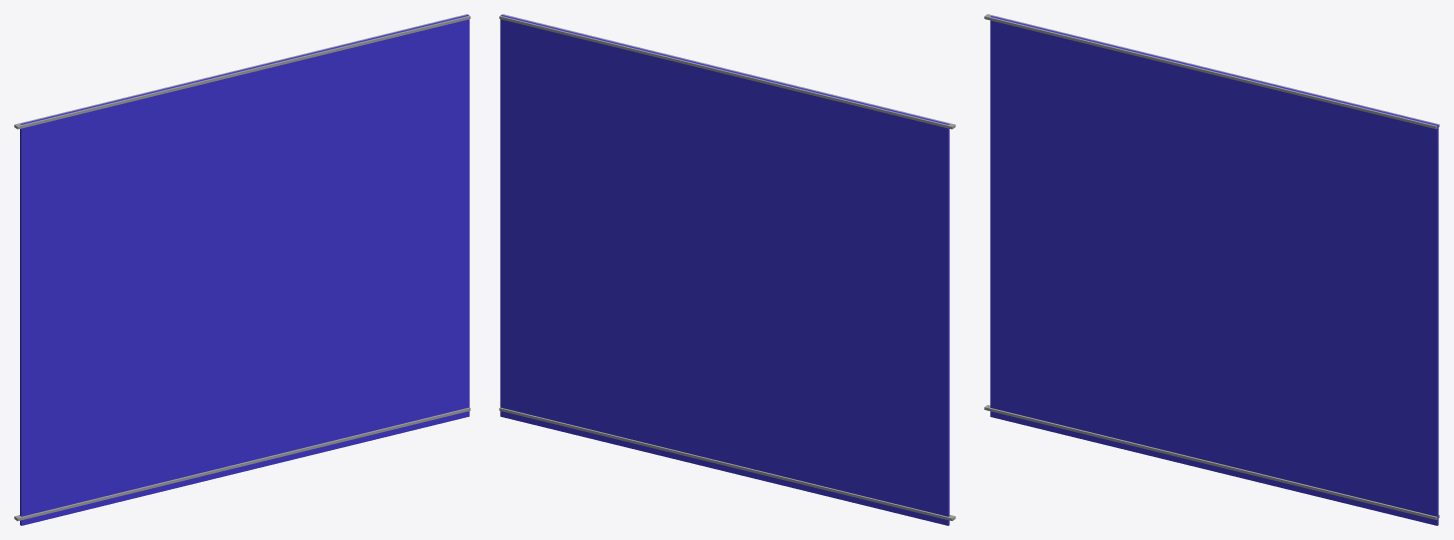
Rendered from Lobby_Non-PhaseableGlass.fbx.
3 views of the same model, side by side, from view 1: azimuth 30°, elevation 25°; view 2: azimuth 150°, elevation 25°; view 3: azimuth 330°, elevation 25° (orthographic).
Parts seen in each view (by area): view 1: NonPhasable_Glass2, Phase_Glass_Border16, Phase_Glass_Border15; view 2: NonPhasable_Glass2, Phase_Glass_Border16, Phase_Glass_Border15; view 3: NonPhasable_Glass2, Phase_Glass_Border16, Phase_Glass_Border15.
Boxes of the visible parts, bbox=[...] form: NonPhasable_Glass2: bbox=[20, 14, 469, 525]; Phase_Glass_Border16: bbox=[14, 14, 470, 129]; Phase_Glass_Border15: bbox=[14, 407, 470, 521]; NonPhasable_Glass2: bbox=[500, 15, 949, 525]; Phase_Glass_Border16: bbox=[499, 14, 955, 129]; Phase_Glass_Border15: bbox=[499, 407, 955, 520]; NonPhasable_Glass2: bbox=[990, 16, 1438, 525]; Phase_Glass_Border16: bbox=[984, 14, 1439, 129]; Phase_Glass_Border15: bbox=[984, 405, 1439, 519].
Size of the model in its own units: 1089 by 921 by 13.88.
